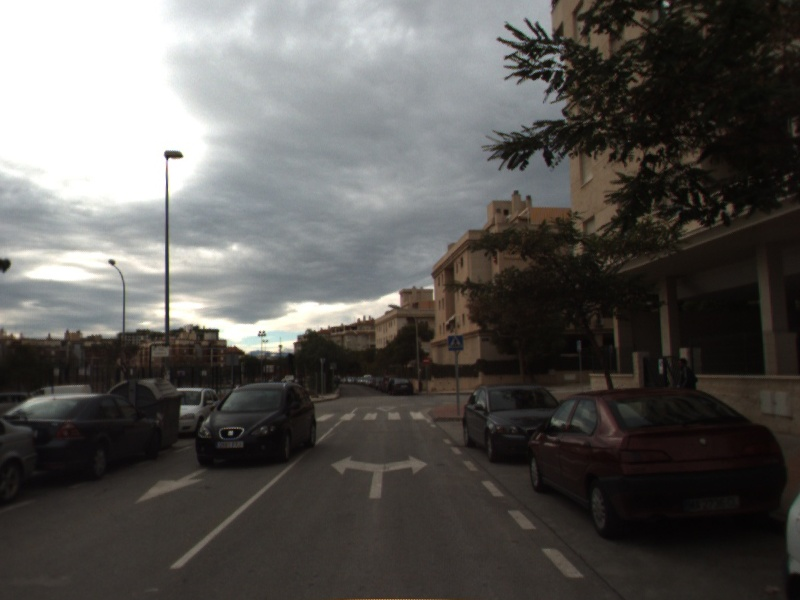LEFT_RIGHT: (329, 452, 430, 501)
